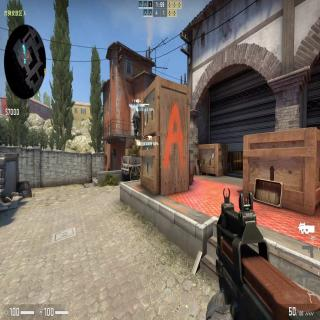CT-Body: (132, 110, 140, 138)
